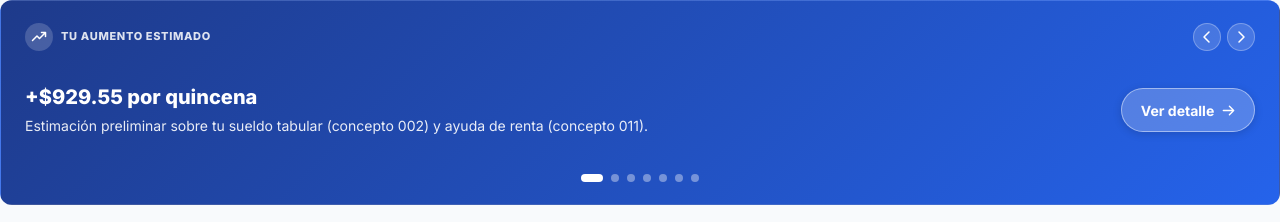
Test: HomeHighlightsCarousel › 4. copias aparece como slide con sus etiquetas
Click the tab named "Sacar copias" at (631, 178), box [627,174,635,182]
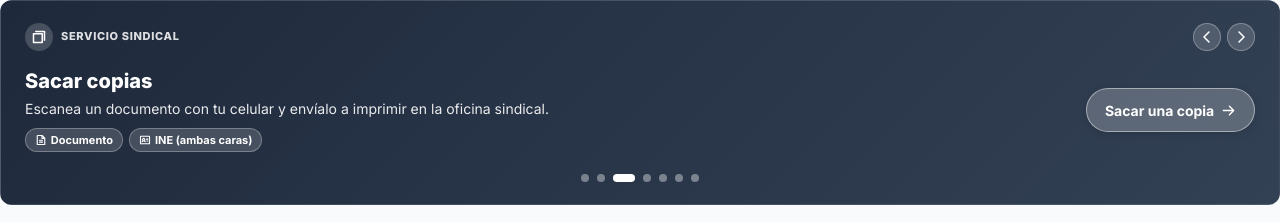
Expected: the element with test id "highlight-copy-service" is shown
Expected: the text "SERVICIO SINDICAL" is shown, [61,28,180,45]
Expected: the text "Documento" is shown, [25,128,123,152]
